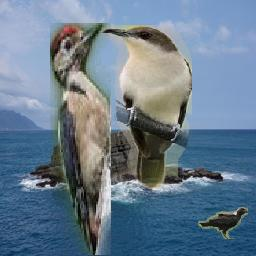Crow: (198, 207, 248, 239)
Cuckoo: (102, 25, 193, 189)
Woodpecker: (51, 23, 112, 255)
